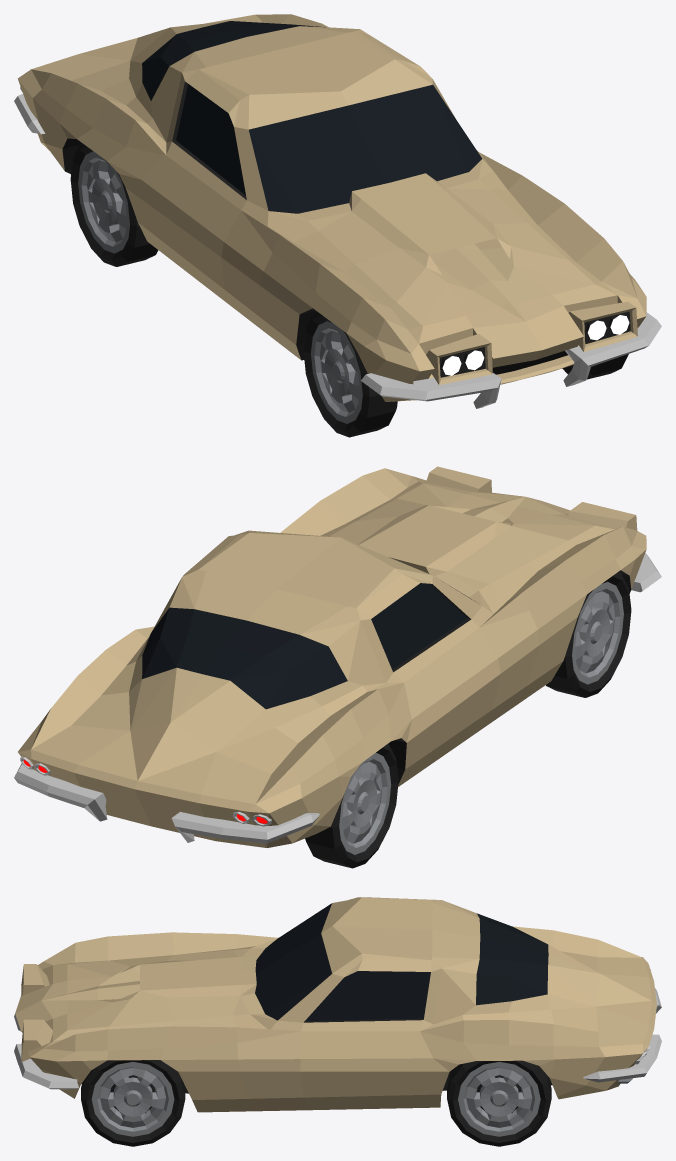
The model's file is Corvette Stingray.glb.
3 views of the same model, one above another, from view 1: azimuth 30°, elevation 25°; view 2: azimuth 150°, elevation 25°; view 3: azimuth 270°, elevation 25° (orthographic). The views are drawn at different scales.
Parts seen in each view (by area): view 1: Stingray, Wheel_FR, Wheel_RR; view 2: Stingray, Wheel_RR, Wheel_FR; view 3: Stingray, Wheel_RL, Wheel_FL.
Boxes of the visible parts, <box> form: Stingray: <box>14,14,661,408</box>; Wheel_FR: <box>303,311,397,437</box>; Wheel_RR: <box>70,142,158,266</box>; Stingray: <box>14,466,661,847</box>; Wheel_RR: <box>305,744,398,868</box>; Wheel_FR: <box>546,572,631,697</box>; Stingray: <box>14,897,661,1112</box>; Wheel_RL: <box>447,1060,551,1146</box>; Wheel_FL: <box>81,1060,185,1146</box>.
Size of the model in its own units: 1.86 by 1.35 by 4.64.
Materials: 1 (1 with a texture image).
